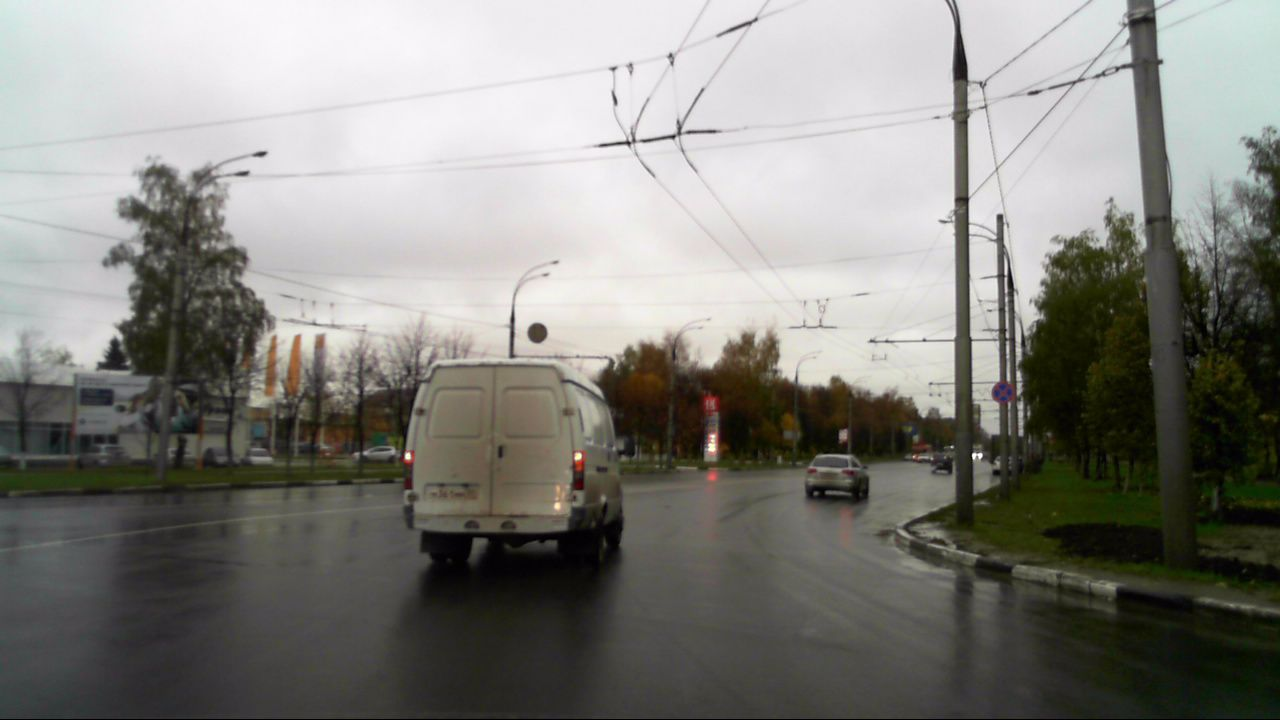No Parking: (990, 381, 1015, 404)
